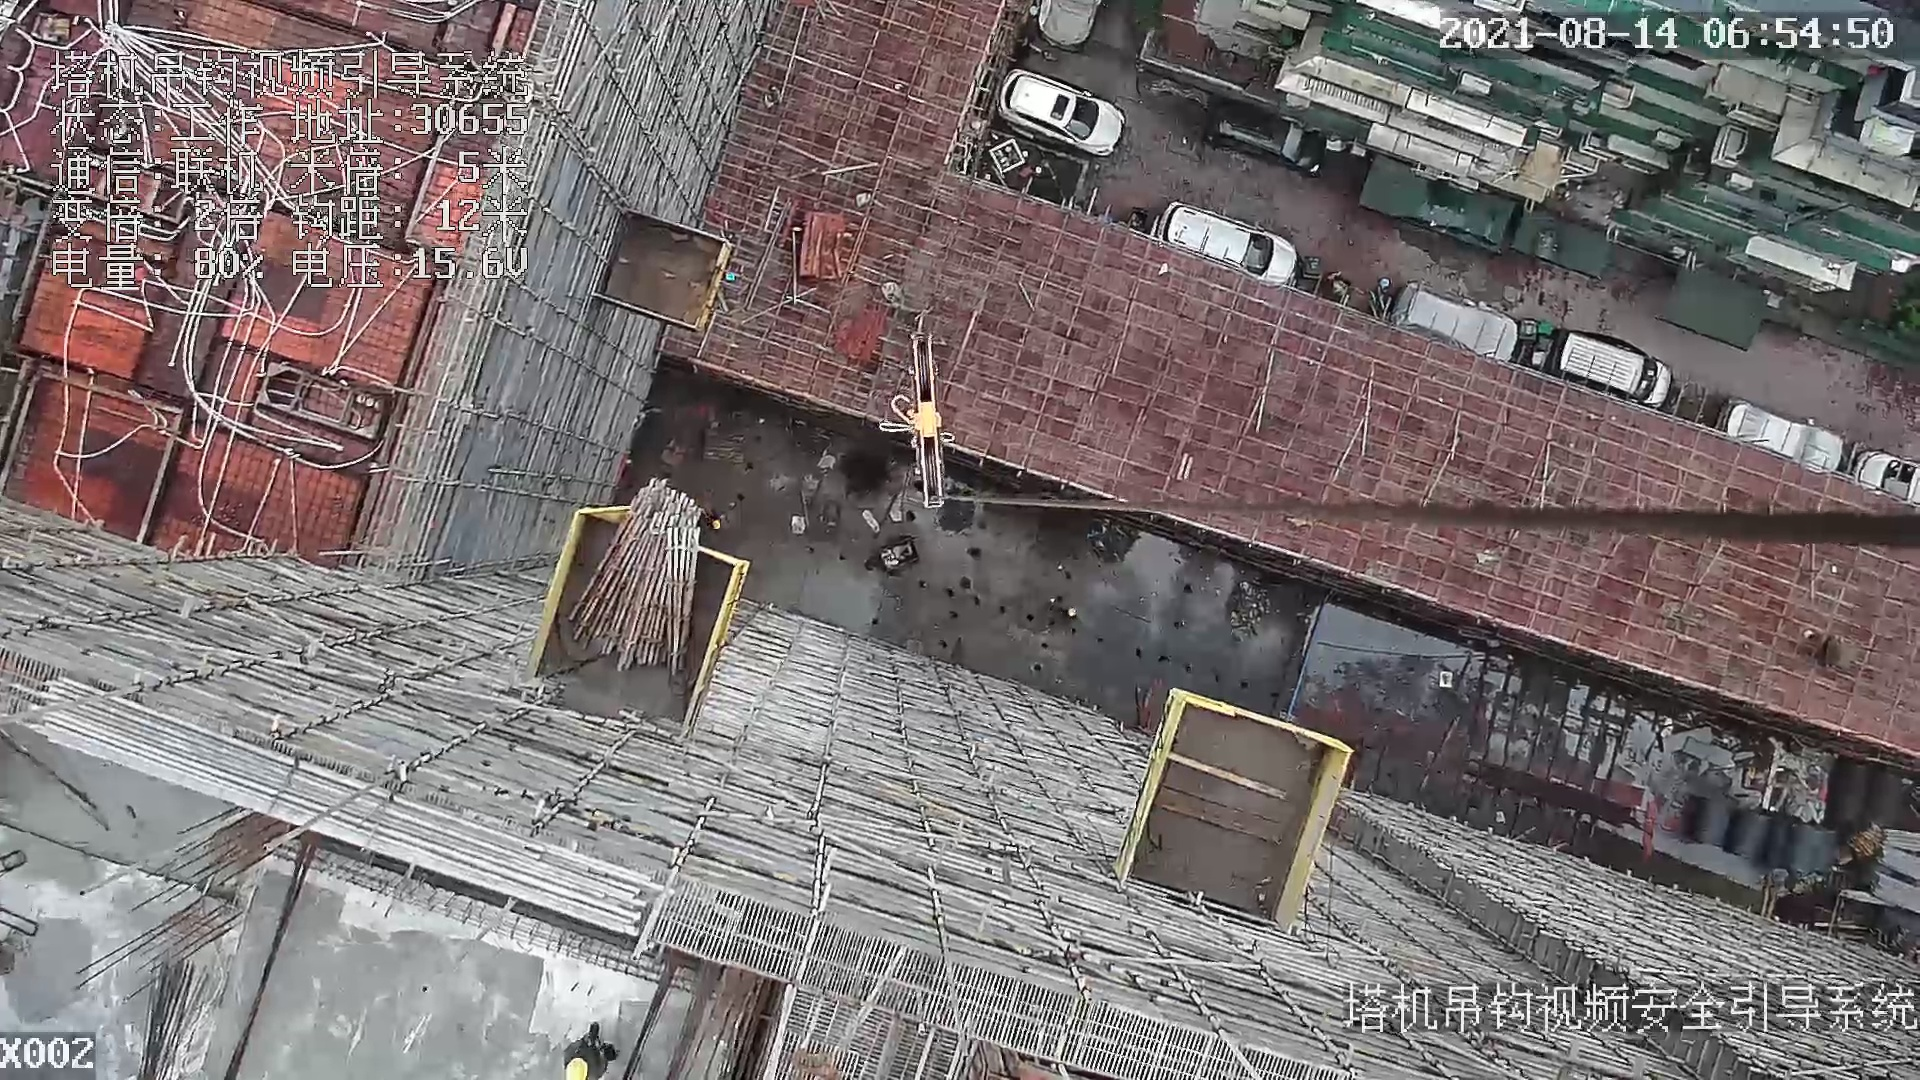helmet: (564, 1057, 587, 1080)
hook: (887, 331, 954, 510)
person: (554, 1022, 617, 1080)
rebar: (21, 681, 646, 943)
scaffold: (566, 479, 701, 678)
